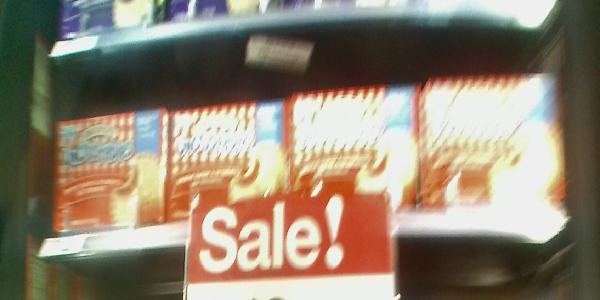icecream: (422, 70, 569, 220), (290, 85, 420, 220), (176, 99, 293, 228), (50, 106, 168, 223)
